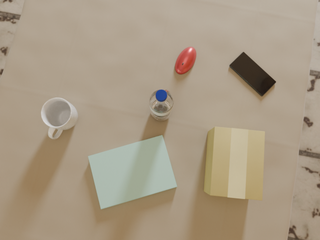book: (88, 135, 177, 209)
bottle: (149, 89, 173, 121)
box: (204, 127, 265, 200)
cup: (41, 98, 78, 139)
mouse: (175, 47, 196, 74)
phone: (229, 52, 276, 96)
